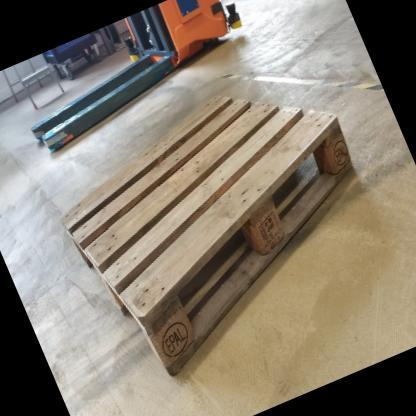BoxFace: (59, 90, 360, 385)
